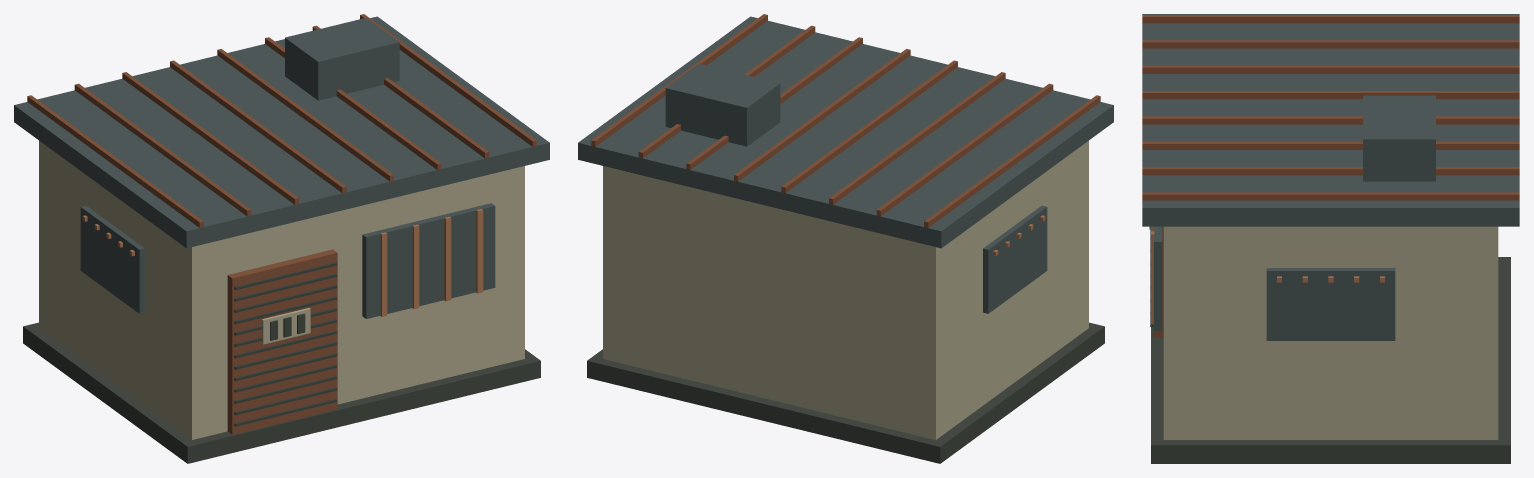
File: FSA_ENV_Outdoor_Station_01_Sealed.glb
3 renders of one model, left to right at view 1: azimuth 30°, elevation 25°; view 2: azimuth 150°, elevation 25°; view 3: azimuth 270°, elevation 25°, orthographic. The views are drawn at different scales.
Visible parts, largest first — view 1: SealedBody, Roof, FrontShutter, Foundation, WindowSeal, TopUnit, SideSeal_-1, RoofTrim_1, RoofTrim_3, RoofTrim_4, RoofTrim_2, RoofTrim_0 (+8 smaller); view 2: SealedBody, Roof, Foundation, TopUnit, SideSeal_-1, RoofTrim_1, RoofTrim_3, RoofTrim_4, RoofTrim_2, RoofTrim_0, RoofTrim_7, RoofTrim_5 (+1 smaller); view 3: SealedBody, Roof, Foundation, SideSeal_1, TopUnit, RoofTrim_0, RoofTrim_1, RoofTrim_2, RoofTrim_7, RoofTrim_3, RoofTrim_4, RoofTrim_5 (+2 smaller).
Part boxes in pixels (bbox=[...]): SealedBody: bbox=[39, 140, 524, 439]; Roof: bbox=[14, 16, 549, 248]; FrontShutter: bbox=[227, 249, 337, 434]; Foundation: bbox=[23, 322, 540, 463]; WindowSeal: bbox=[362, 203, 495, 318]; TopUnit: bbox=[285, 17, 399, 100]; SideSeal_-1: bbox=[80, 205, 144, 313]; RoofTrim_1: bbox=[74, 83, 251, 216]; RoofTrim_3: bbox=[170, 60, 346, 193]; RoofTrim_4: bbox=[217, 49, 393, 181]; RoofTrim_2: bbox=[122, 72, 298, 204]; RoofTrim_0: bbox=[27, 95, 203, 227]; SealedBody: bbox=[603, 140, 1088, 439]; Roof: bbox=[578, 16, 1113, 248]; Foundation: bbox=[587, 322, 1104, 463]; TopUnit: bbox=[665, 63, 780, 146]; SideSeal_-1: bbox=[983, 205, 1047, 313]; RoofTrim_1: bbox=[876, 83, 1053, 216]; RoofTrim_3: bbox=[781, 60, 957, 193]; RoofTrim_4: bbox=[734, 49, 910, 181]; RoofTrim_2: bbox=[829, 72, 1005, 204]; RoofTrim_0: bbox=[924, 95, 1100, 227]; RoofTrim_7: bbox=[591, 14, 767, 146]; RoofTrim_5: bbox=[686, 37, 862, 169]; SealedBody: bbox=[1163, 226, 1498, 439]; Roof: bbox=[1142, 14, 1519, 226]; Foundation: bbox=[1151, 257, 1510, 463]; SideSeal_1: bbox=[1266, 268, 1395, 340]; TopUnit: bbox=[1363, 95, 1435, 181]; RoofTrim_0: bbox=[1142, 15, 1519, 23]; RoofTrim_1: bbox=[1142, 40, 1519, 48]; RoofTrim_2: bbox=[1142, 65, 1519, 73]; RoofTrim_7: bbox=[1142, 192, 1519, 200]; RoofTrim_3: bbox=[1142, 91, 1519, 99]; RoofTrim_4: bbox=[1142, 116, 1519, 124]; RoofTrim_5: bbox=[1142, 141, 1519, 149].
Bounding box in the file's own units: 5.35 × 3.88 × 4.4.
